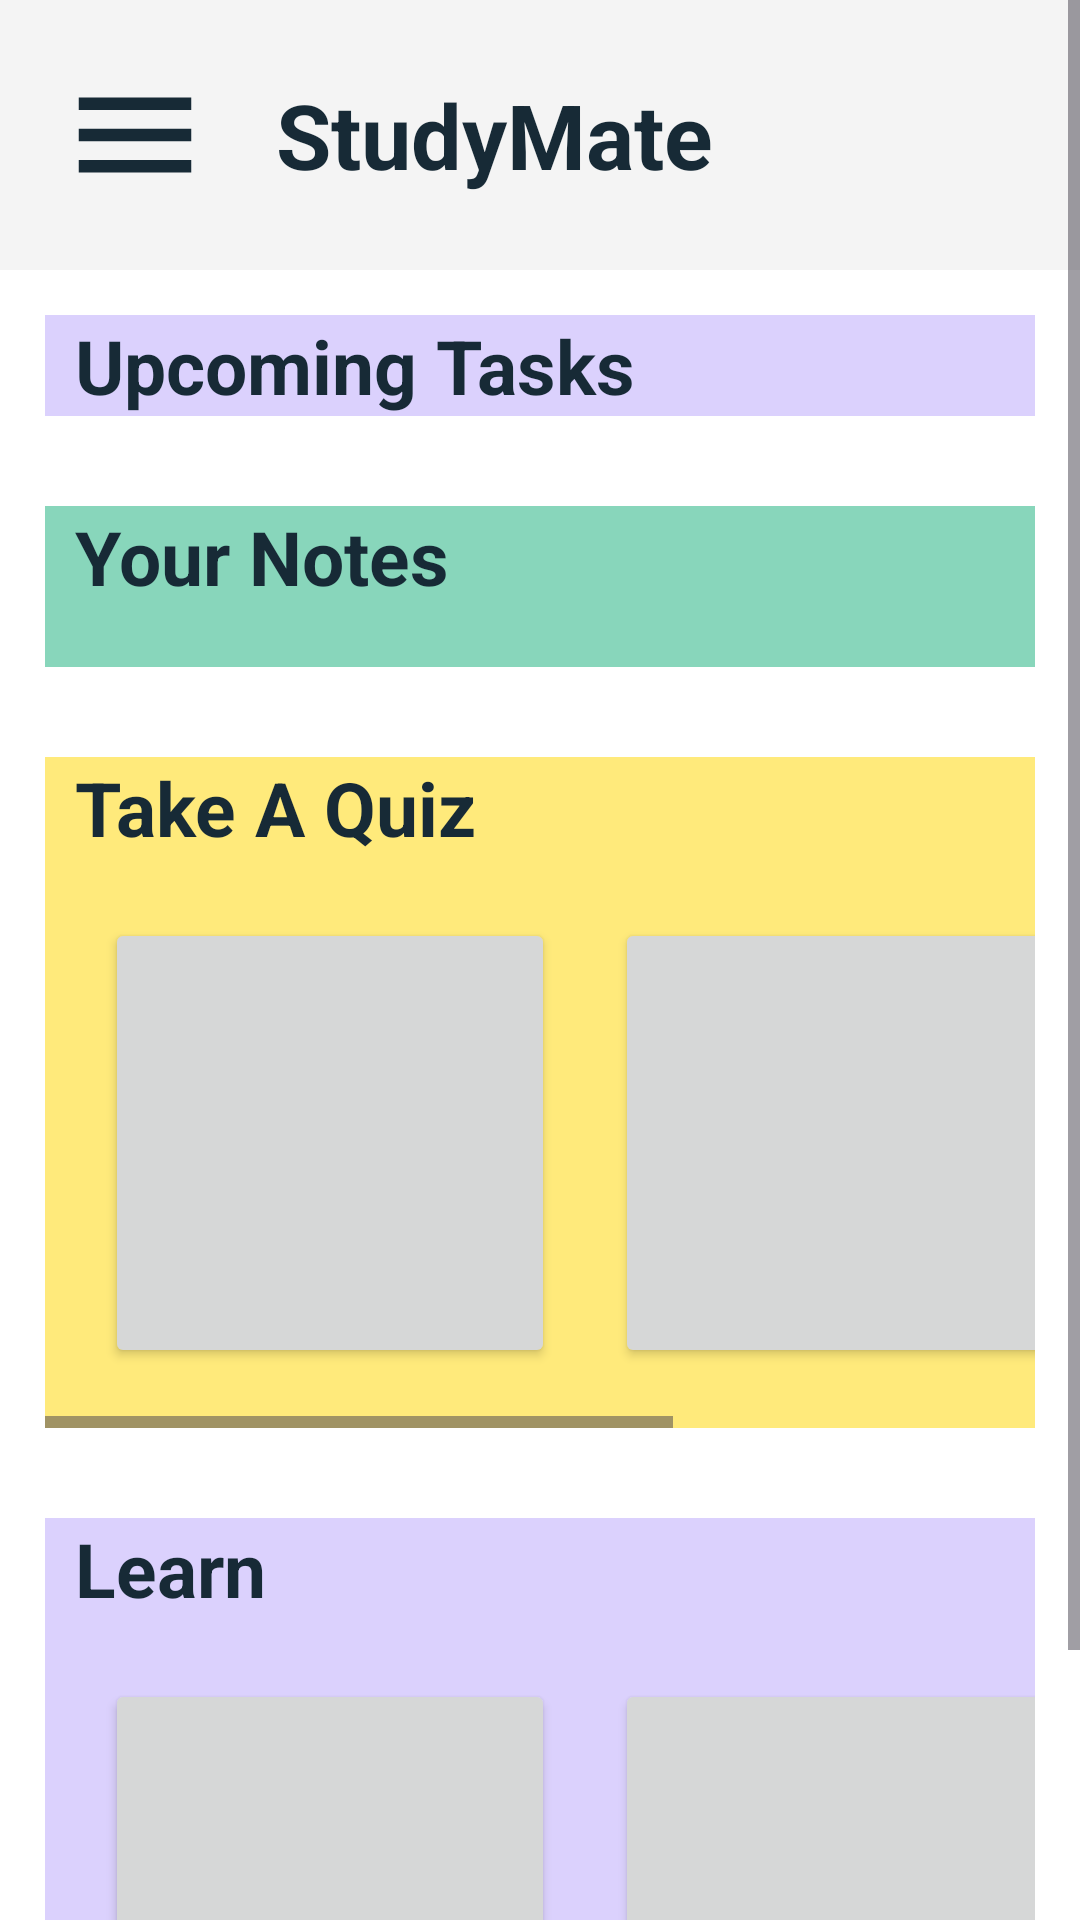

Screen size 1080px x 1920px. Icon name, then its center in pixels as (x,y):
menu: (135,135)
